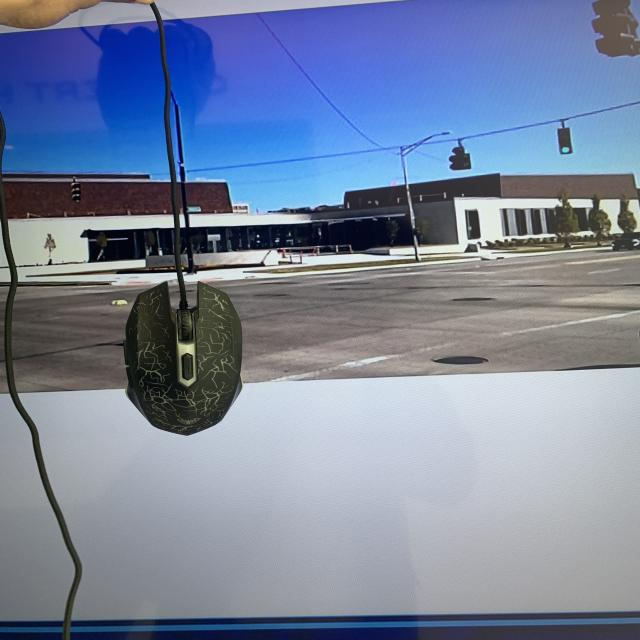Mouse: (118, 277, 248, 442)
